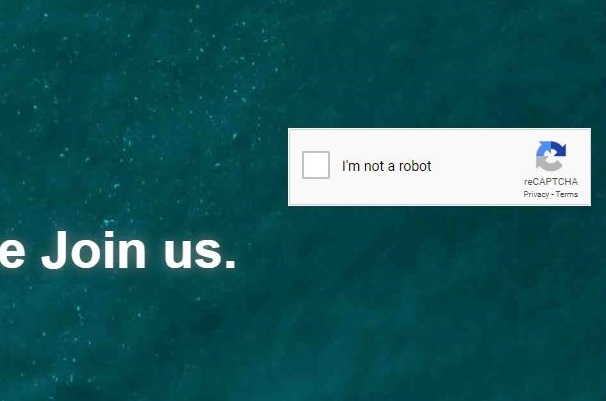captcha: (303, 151, 433, 179)
